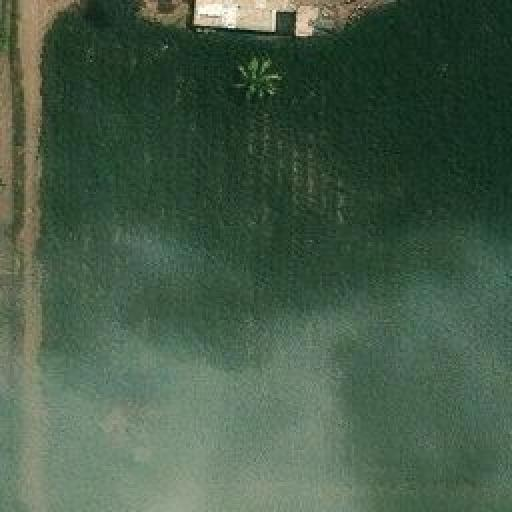manzanas: (191, 0, 337, 39)
